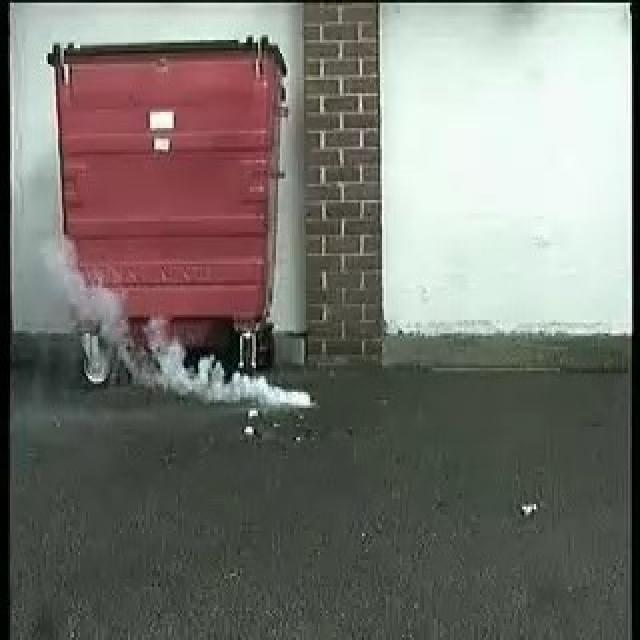smoke: (79, 291, 308, 404)
